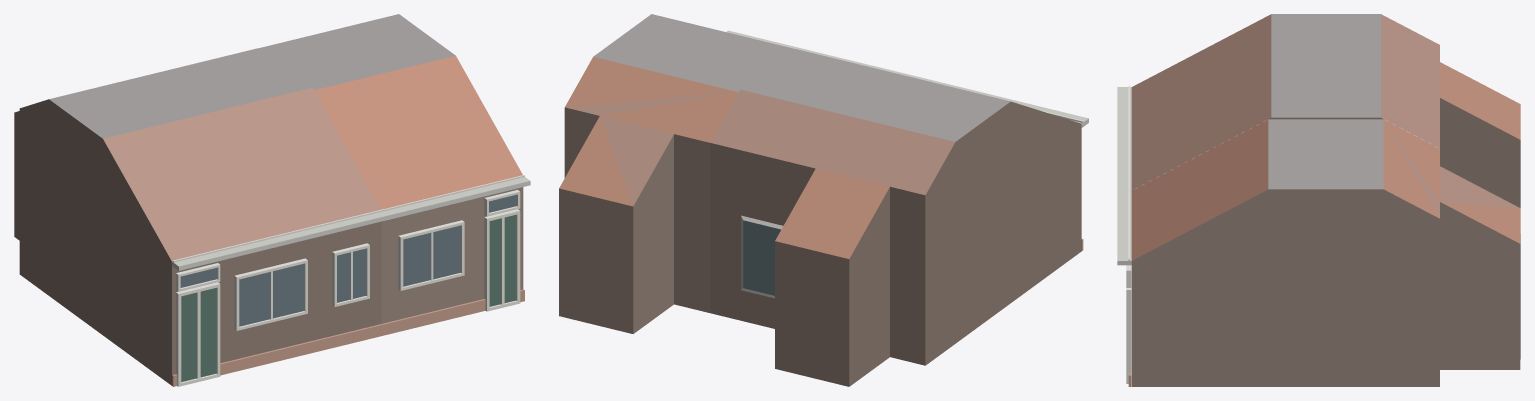
The model's file is chunk-face-vogel-3-11-r1.glb.
3 renders of one model, left to right at view 1: azimuth 30°, elevation 25°; view 2: azimuth 150°, elevation 25°; view 3: azimuth 270°, elevation 25°, orthographic. The views are drawn at different scales.
Visible parts, largest first — view 1: face-vogel-3-11-r1; view 2: face-vogel-3-11-r1; view 3: face-vogel-3-11-r1.
Boxes of the visible parts, x1,y1,x2,y2 form: face-vogel-3-11-r1: (14, 14, 530, 386); face-vogel-3-11-r1: (559, 14, 1088, 386); face-vogel-3-11-r1: (1117, 14, 1520, 386).
Size of the model in its own units: 10.01 by 5.35 by 9.81.
